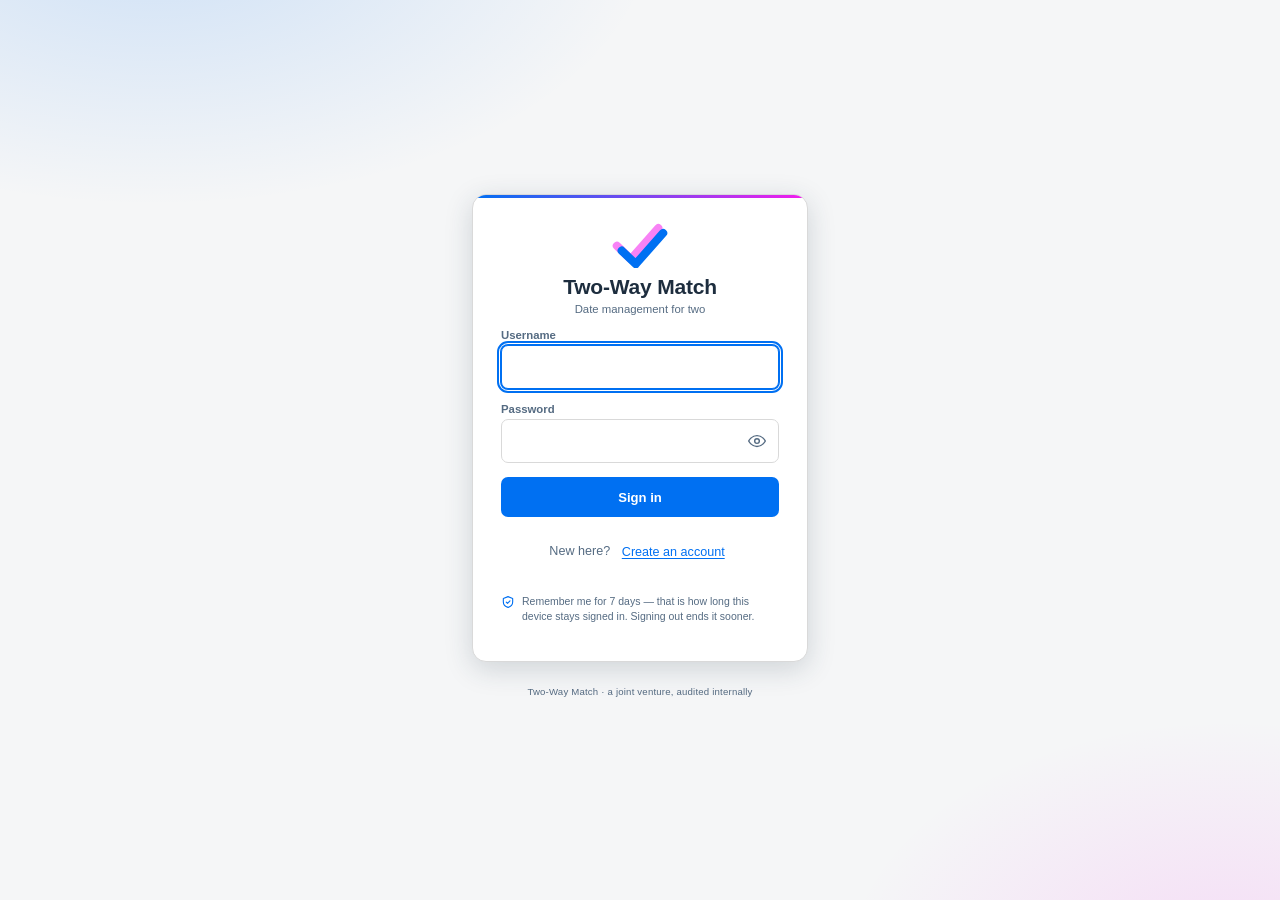
Scenario: LoginPage › goes busy while the request is in flight, and refuses a second submit
Type "ada" into the field labelled "Username". click: (640, 367)
box: [501,345,779,389]
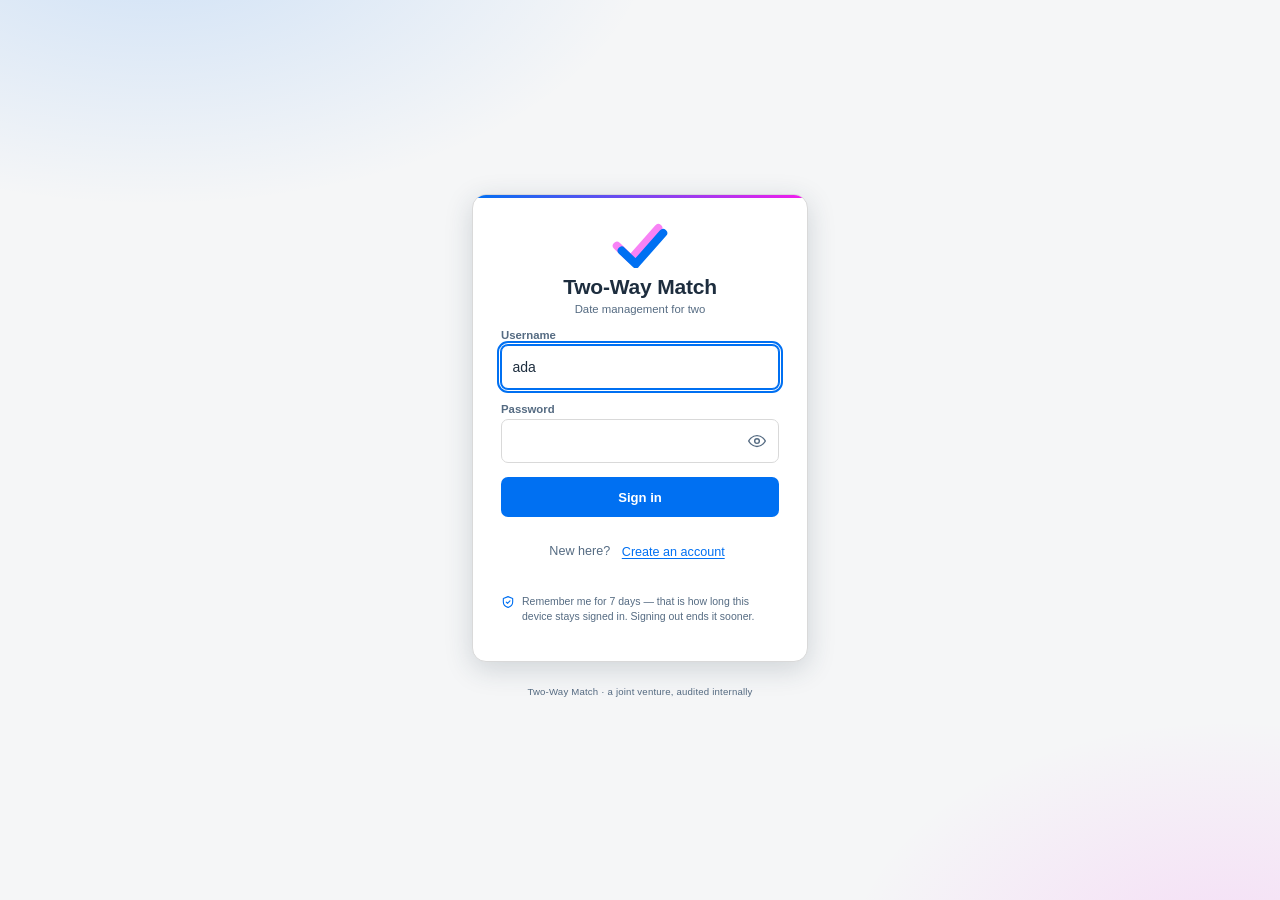
Type "correct horse" into the password field labelled "Password". click: (640, 441)
box: [501,419,779,463]
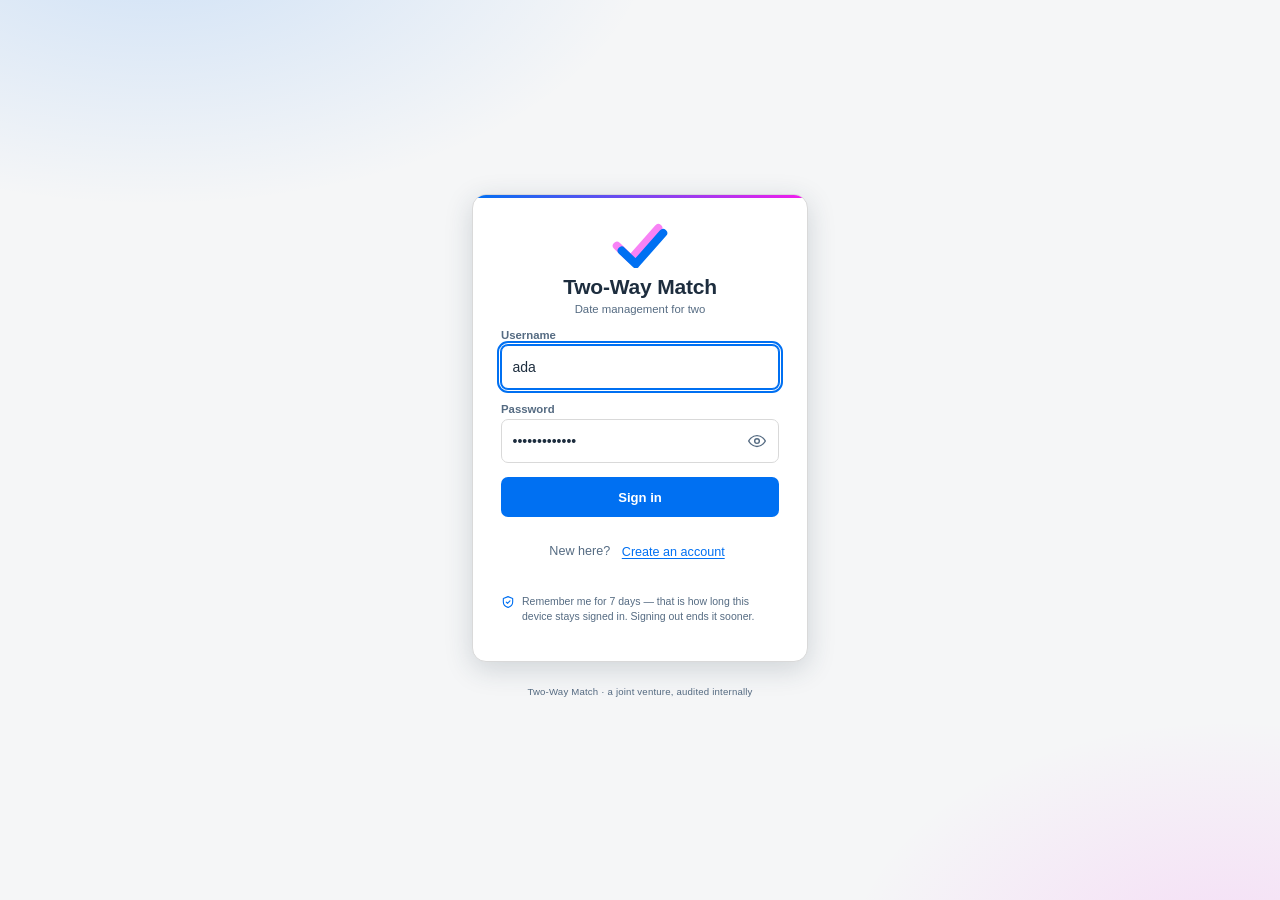
Click the button "Sign in". click: (640, 497)
box: [501,477,779,517]
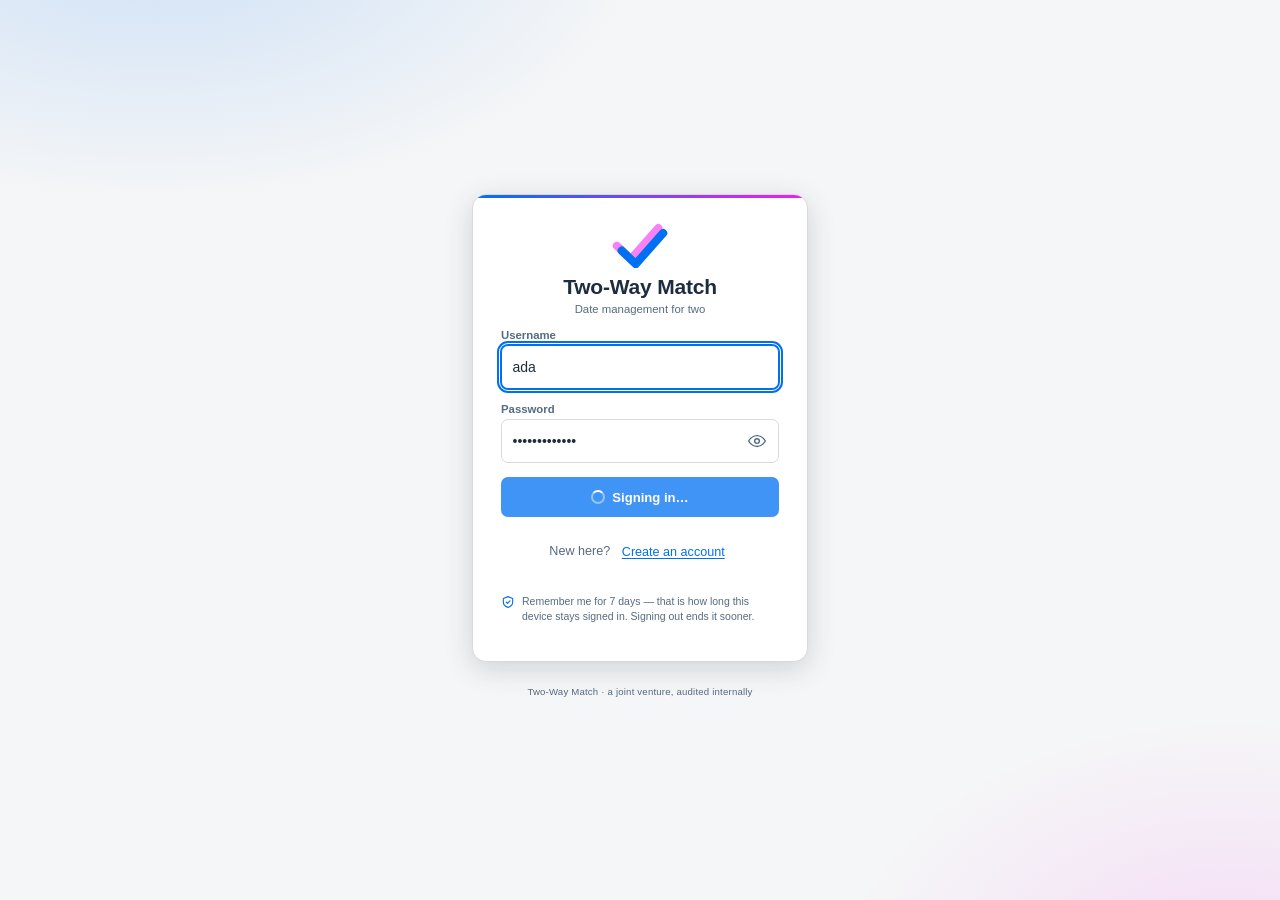
Expected: the button "Signing in…" is disabled
Click the button "Signing in…". click: (640, 497)
box: [501,477,779,517]
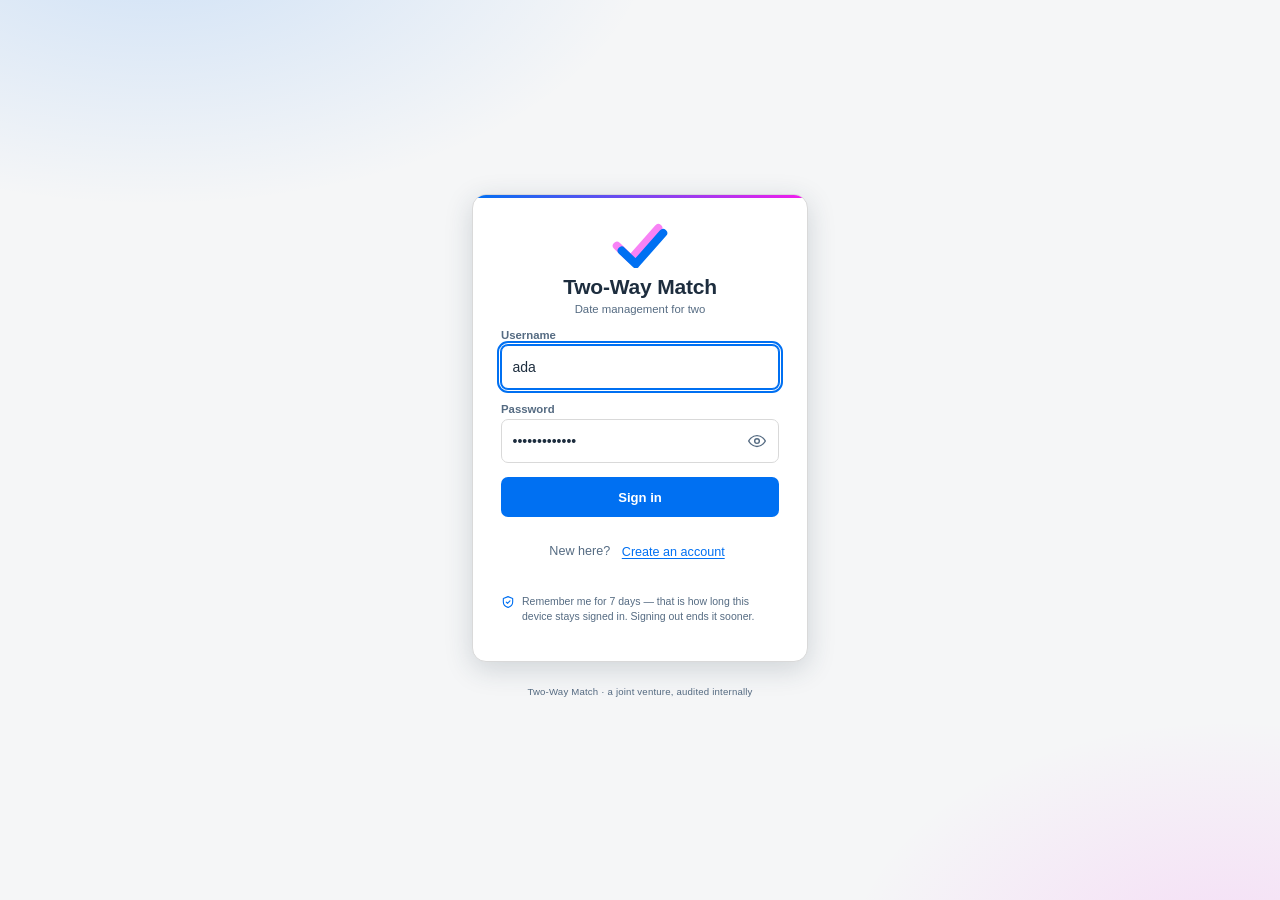
Expected: the button "Sign in" is enabled, [501,477,779,517]
